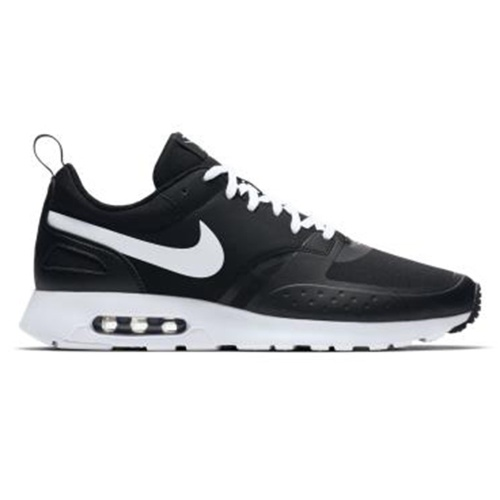nike: (61, 210, 229, 284)
